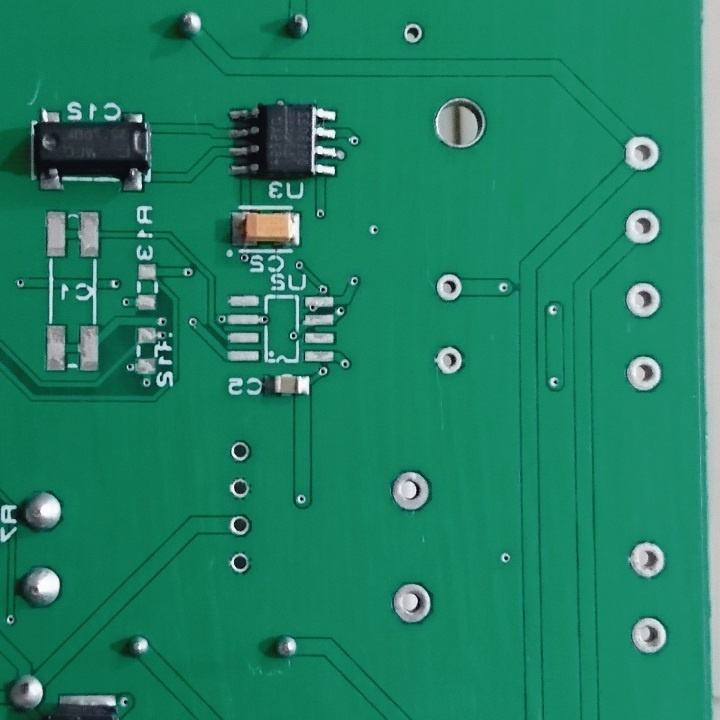F: (391, 467, 435, 518), (391, 580, 436, 628), (623, 353, 666, 395), (622, 281, 665, 322), (621, 133, 664, 173), (627, 539, 667, 581), (630, 615, 670, 655), (623, 207, 662, 247), (431, 340, 466, 378), (435, 270, 464, 303), (228, 511, 252, 540), (227, 547, 251, 575), (230, 438, 252, 466), (230, 476, 251, 502), (401, 21, 424, 43)
